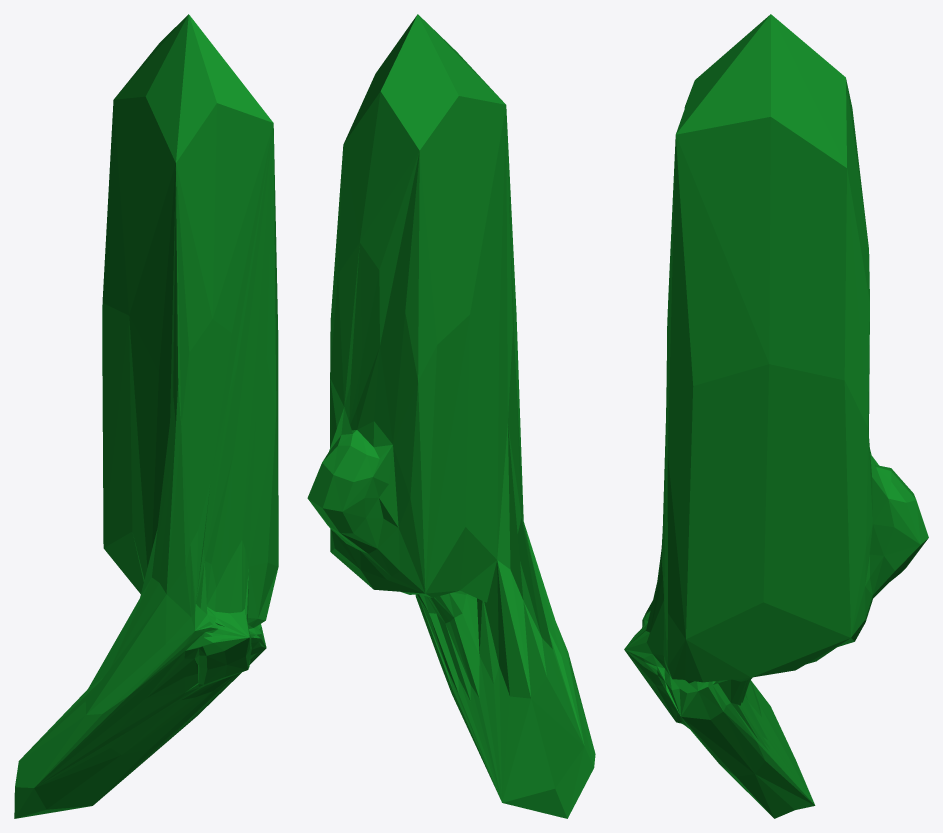
The picture shows the model from 3 angles, left to right: view 1: azimuth 30°, elevation 25°; view 2: azimuth 150°, elevation 25°; view 3: azimuth 270°, elevation 25°; orthographic projection. The views are drawn at different scales.
Parts seen in each view (by area): view 1: 276_Cube.1129; view 2: 276_Cube.1129; view 3: 276_Cube.1129.
Part boxes in pixels (box(x1,y1,x2,y2)): 276_Cube.1129: box(14, 14, 278, 818); 276_Cube.1129: box(307, 14, 595, 818); 276_Cube.1129: box(624, 14, 928, 818).
Bounding box in the file's own units: 5.24 × 16.41 × 5.27.
